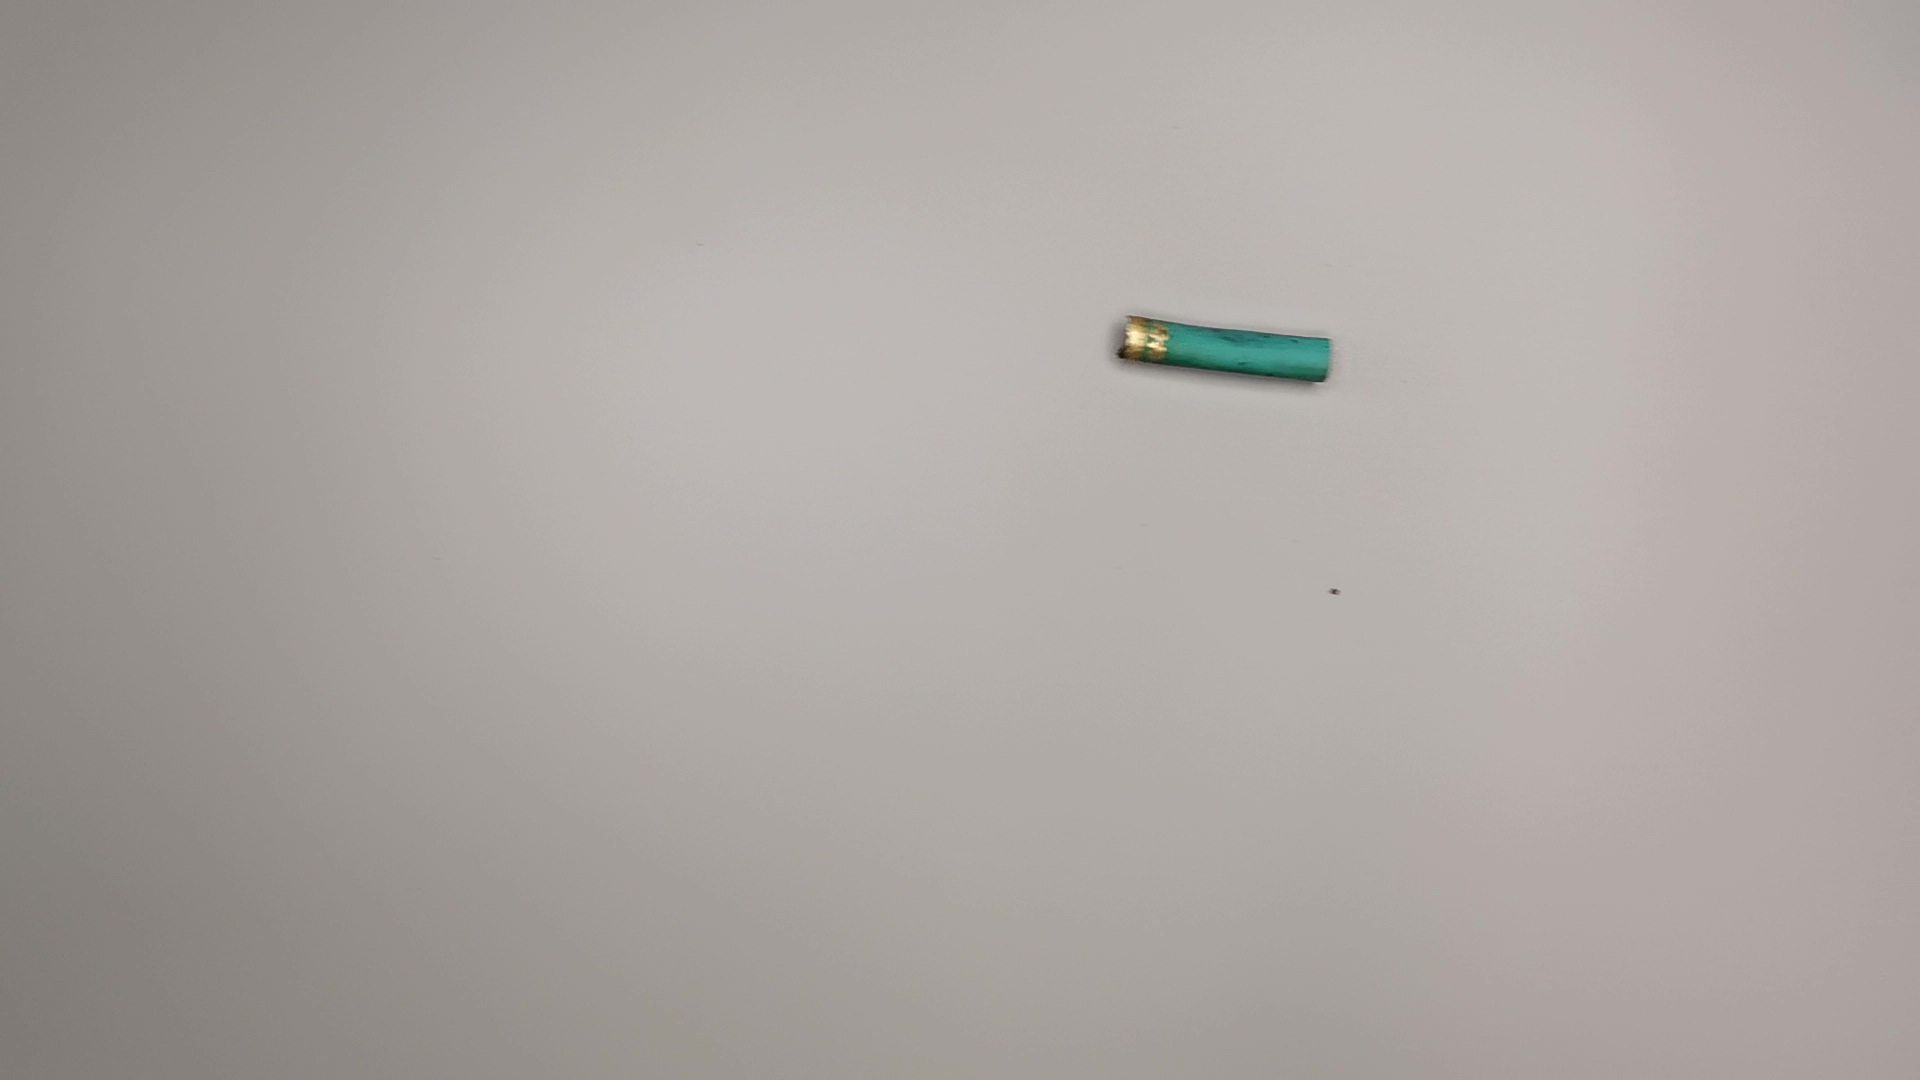cigarette: (1106, 301, 1341, 405)
